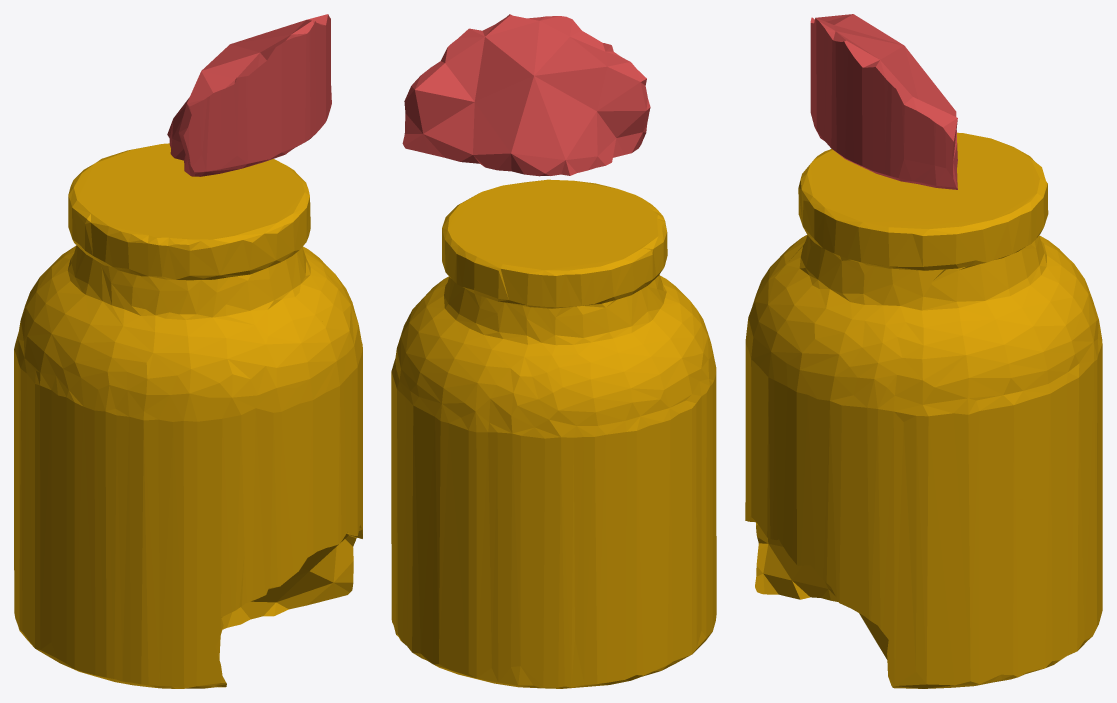
File: fractured_8_2pcs_transformed.glb
3 views of the same model, side by side, from view 1: azimuth 30°, elevation 25°; view 2: azimuth 150°, elevation 25°; view 3: azimuth 270°, elevation 25° (orthographic). The views are drawn at different scales.
Visible parts, largest first — view 1: piece_0.obj, piece_1.obj; view 2: piece_0.obj, piece_1.obj; view 3: piece_0.obj, piece_1.obj.
Part boxes in pixels (x1,y1,x2,y2): piece_0.obj: (14,143,362,688); piece_1.obj: (167,14,331,176); piece_0.obj: (391,179,716,688); piece_1.obj: (402,14,650,176); piece_0.obj: (745,132,1102,688); piece_1.obj: (810,14,957,189).
Bounding box in the file's own units: 0.7401 × 1.41 × 0.7399.
